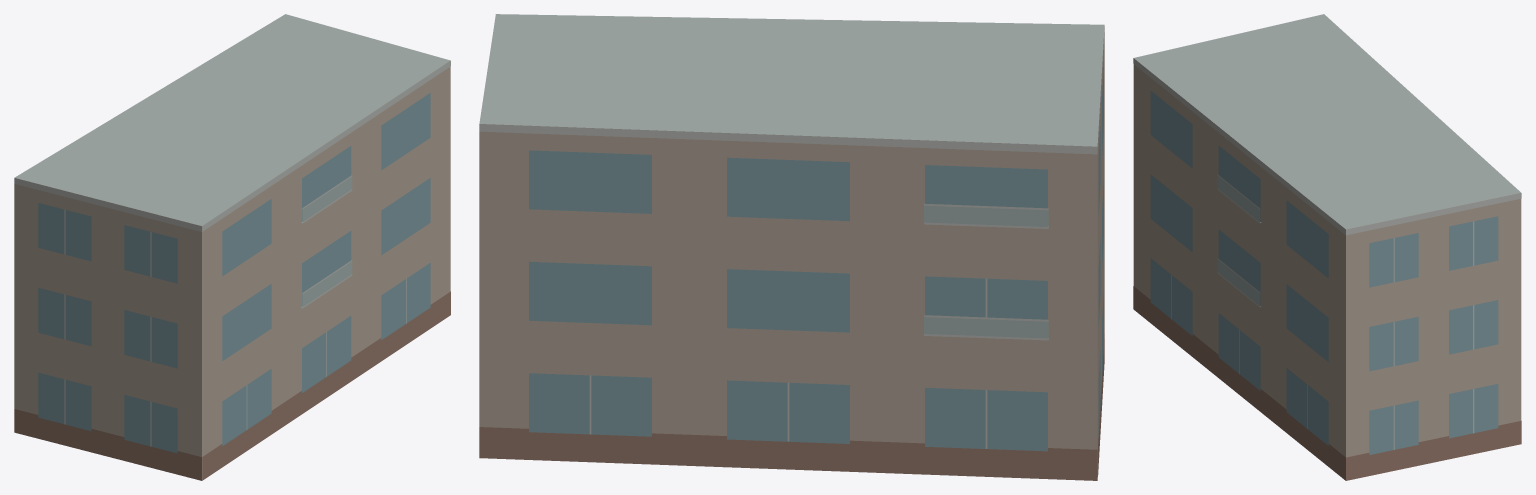
Rendered from survey-upis-33023658.glb.
The picture shows the model from 3 angles, left to right: view 1: azimuth 30°, elevation 25°; view 2: azimuth 150°, elevation 25°; view 3: azimuth 270°, elevation 25°; orthographic projection. The views are drawn at different scales.
Parts seen in each view (by area): view 1: survey-upis-33023658.tmp; view 2: survey-upis-33023658.tmp; view 3: survey-upis-33023658.tmp.
Boxes of the visible parts, <box> form: survey-upis-33023658.tmp: <box>14,14,450,480</box>; survey-upis-33023658.tmp: <box>479,14,1104,480</box>; survey-upis-33023658.tmp: <box>1133,14,1521,480</box>.
Bounding box in the file's own units: 19.5 × 10.6 × 14.84.
